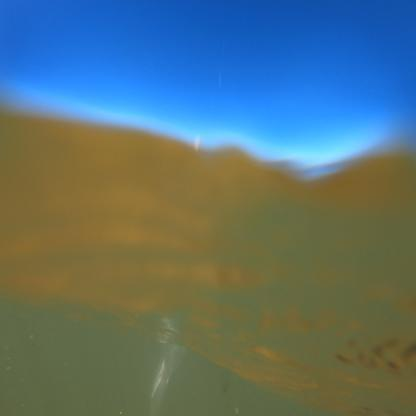Rác: (134, 316, 190, 413)
